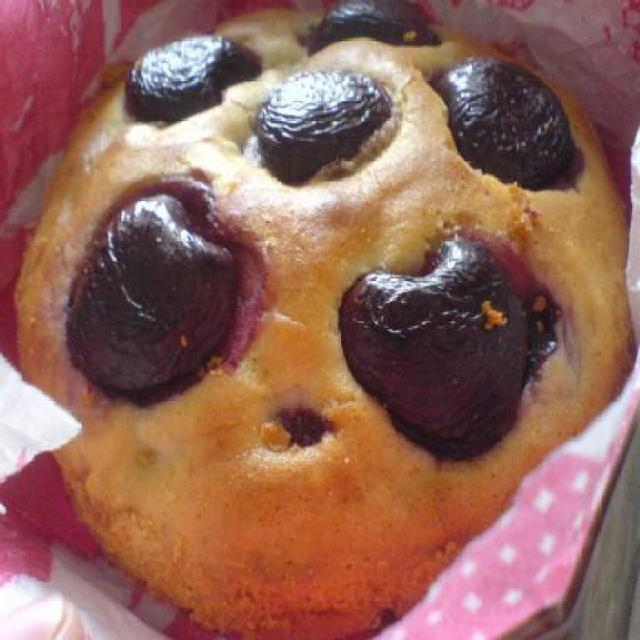Muffin: (10, 39, 639, 639)
